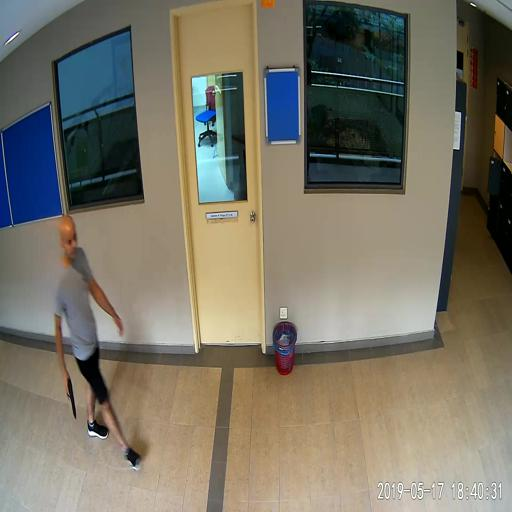pistol: (62, 373, 76, 417)
